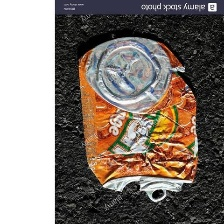can: (74, 34, 202, 205)
